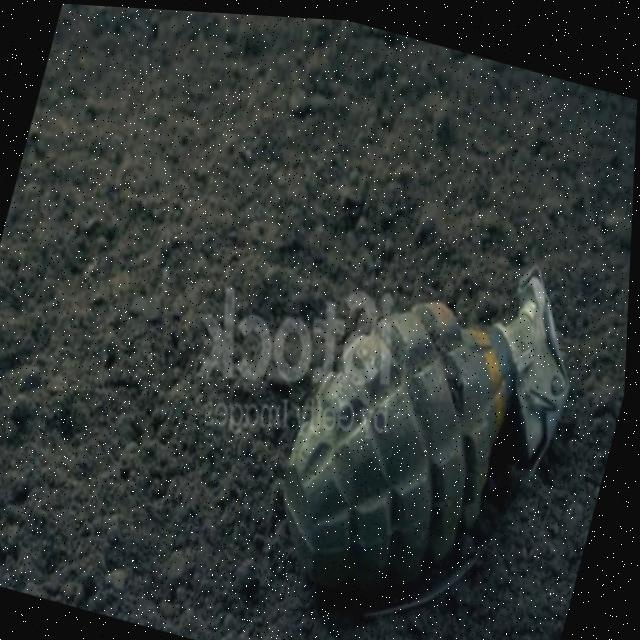grenade: (193, 179, 634, 640)
